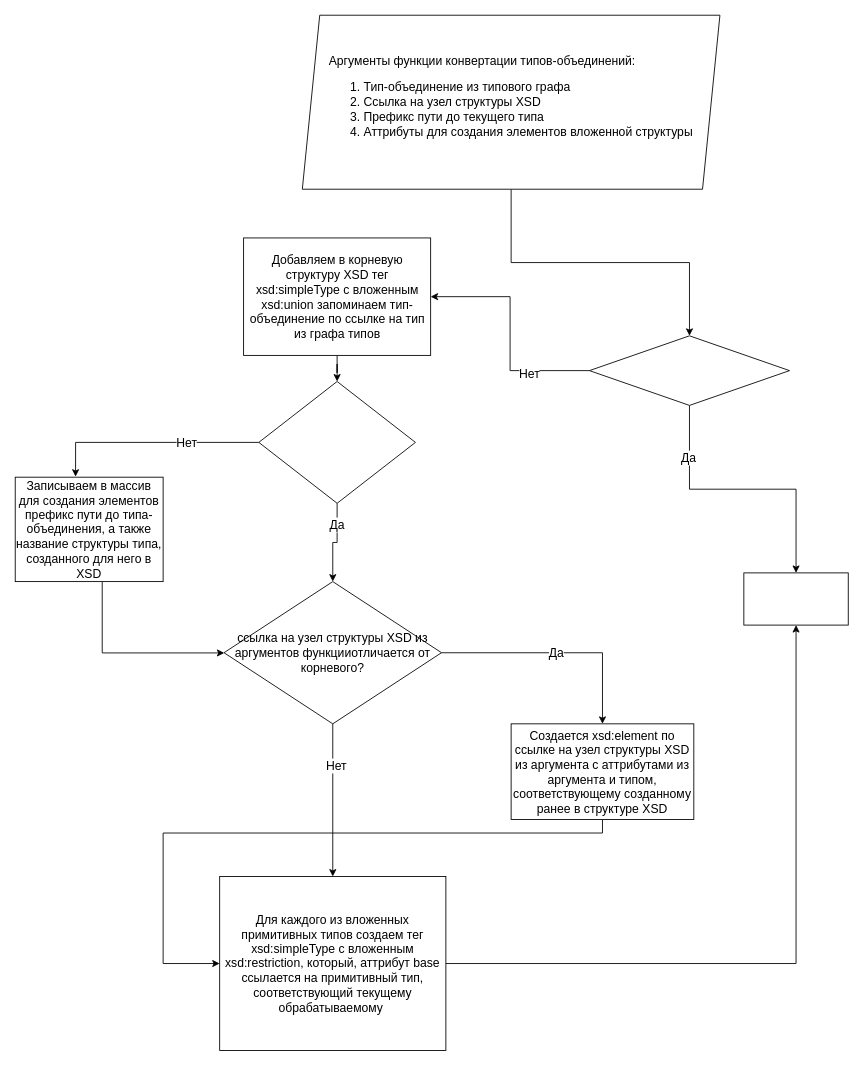
This 864x1066 diagram has some shape labels left out. Each missing label, with the centre of its shape:
"Завершение обработки типа-объединения" belongs at (x=795, y=598).
"обрабатываемый тип находится внутри массива?" belongs at (x=336, y=442).
"Тип был обработан ранее" belongs at (x=689, y=370).
